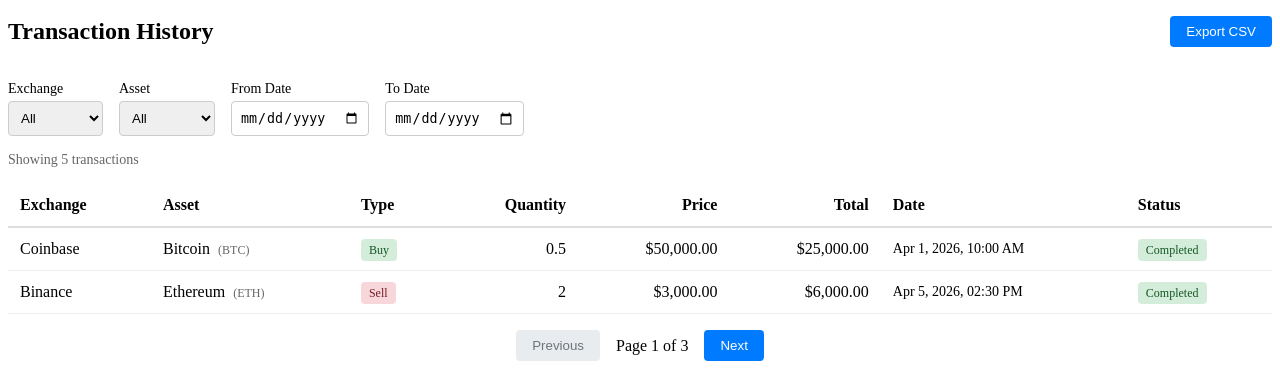
Test: TransactionHistory › Pagination › disables next button on last page
Click the button "Next" at (734, 346), box [704,330,764,361]
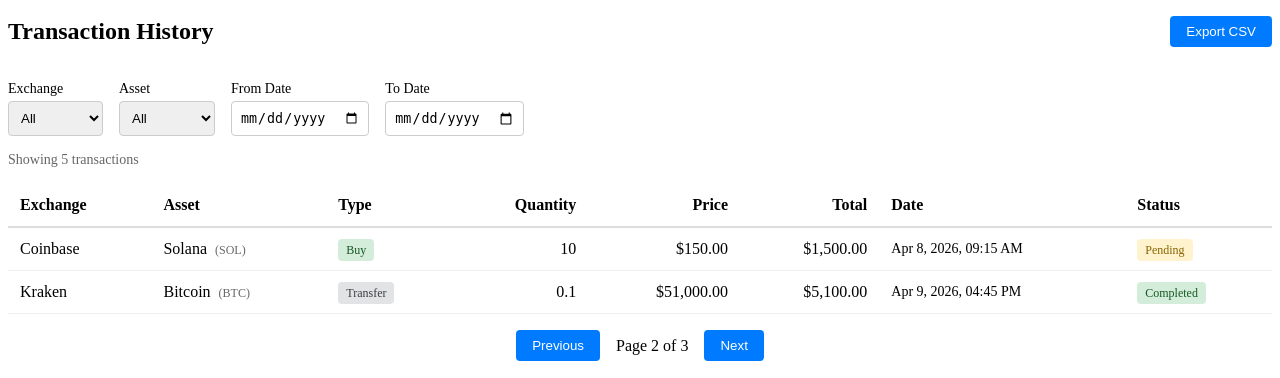
Click the button "Next" at (734, 346), box [704,330,764,361]
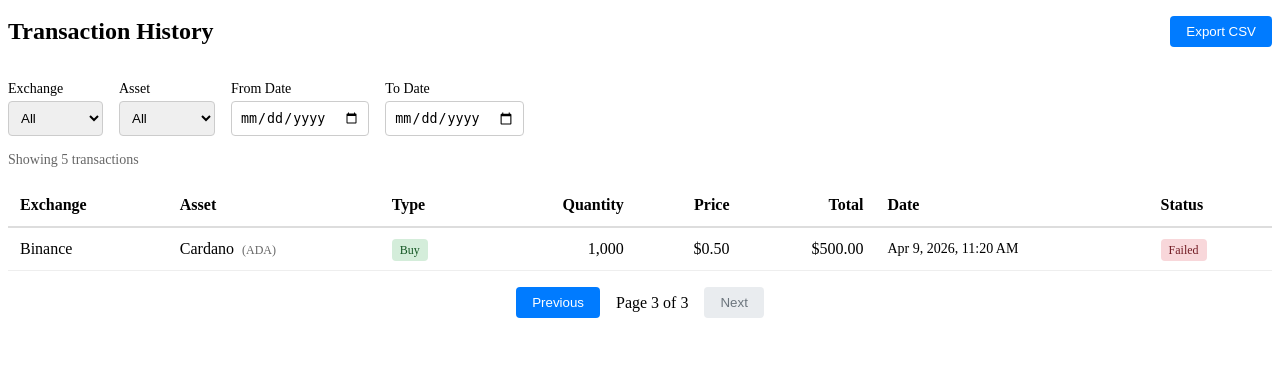
Result: the button "Next" is disabled at [704,287,764,318]
